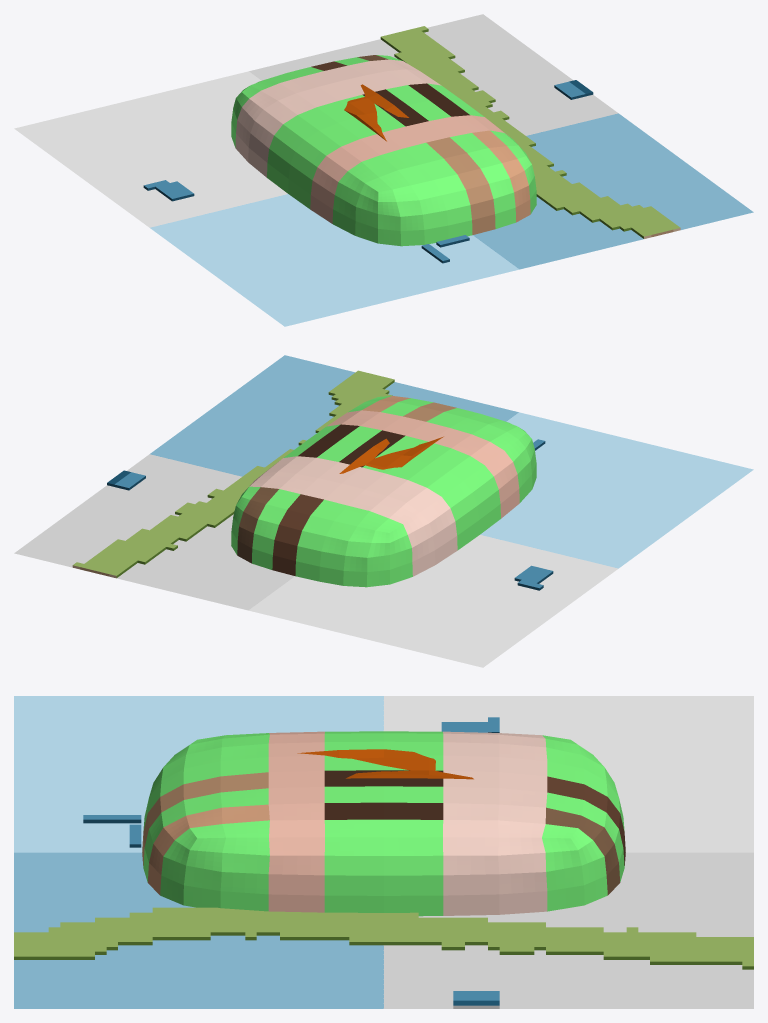
File: plateau01.glb
3 views of the same model, one above another, from view 1: azimuth 30°, elevation 25°; view 2: azimuth 150°, elevation 25°; view 3: azimuth 270°, elevation 25° (orthographic). The views are drawn at different scales.
Parts seen in each view (by area): view 1: base, Cube.003, Cube.002; view 2: base, Cube.003, Cube.002; view 3: base, Cube.003, Cube.002.
Boxes of the visible parts, x1=… form: base: x1=14, y1=14, x2=753, y2=326; Cube.003: x1=231, y1=55, x2=536, y2=246; Cube.002: x1=344, y1=84, x2=408, y2=141; base: x1=14, y1=355, x2=753, y2=667; Cube.003: x1=231, y1=396, x2=536, y2=587; Cube.002: x1=339, y1=436, x2=443, y2=473; base: x1=14, y1=696, x2=753, y2=1008; Cube.003: x1=142, y1=731, x2=625, y2=916; Cube.002: x1=297, y1=749, x2=473, y2=779.
Bounding box in the file's own units: 2000 × 500 × 2000.
Materials: 4 (4 with a texture image).
